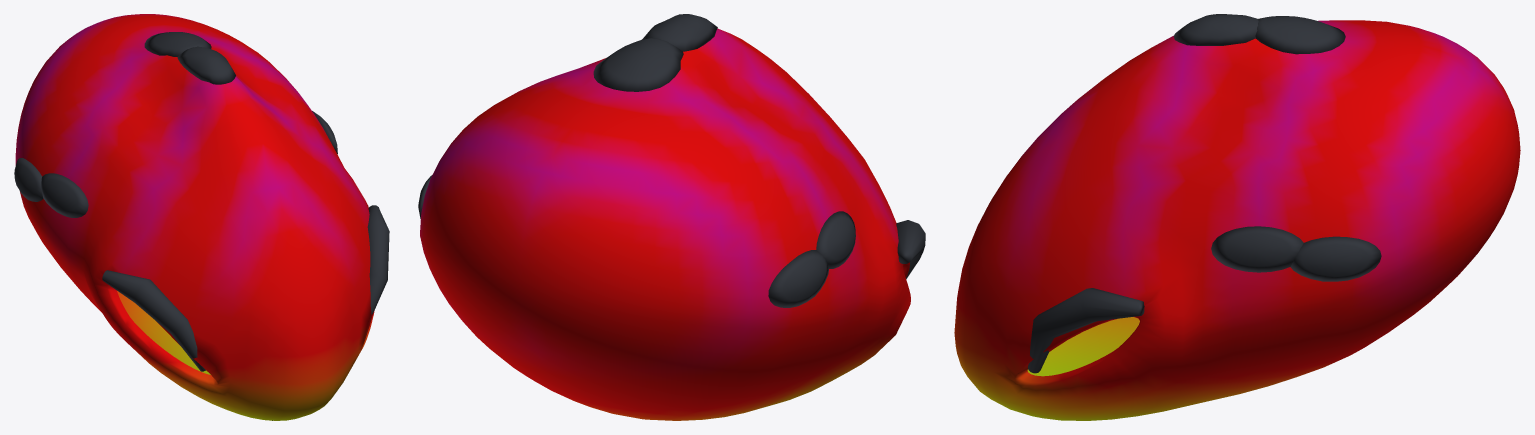
File: GXR_HEAD_04_ABYSSAL.glb
3 renders of one model, left to right at view 1: azimuth 30°, elevation 25°; view 2: azimuth 150°, elevation 25°; view 3: azimuth 270°, elevation 25°, orthographic. The views are drawn at different scales.
Parts seen in each view (by area): view 1: Mesh_HeadSurface_ABYSSAL_Export, Mesh_Supraorbital_ridge.006_Export, Mesh_Supraorbital_ridge.007_Export, Mesh_Organic_cranial_scute.020_Export, Mesh_Organic_cranial_scute.018_Export, Mesh_Organic_cranial_scute.019_Export, Mesh_Organic_cranial_scute.021_Export; view 2: Mesh_HeadSurface_ABYSSAL_Export, Mesh_Organic_cranial_scute.019_Export, Mesh_Organic_cranial_scute.021_Export, Mesh_Organic_cranial_scute.018_Export, Mesh_Organic_cranial_scute.020_Export, Mesh_Supraorbital_ridge.006_Export; view 3: Mesh_HeadSurface_ABYSSAL_Export, Mesh_Supraorbital_ridge.007_Export, Mesh_Organic_cranial_scute.022_Export, Mesh_Organic_cranial_scute.023_Export, Mesh_Organic_cranial_scute.019_Export, Mesh_Organic_cranial_scute.018_Export.
Part boxes in pixels (<box>): Mesh_HeadSurface_ABYSSAL_Export: <box>15,14,374,420</box>; Mesh_Supraorbital_ridge.006_Export: <box>102,270,205,371</box>; Mesh_Supraorbital_ridge.007_Export: <box>367,205,389,314</box>; Mesh_Organic_cranial_scute.020_Export: <box>41,173,88,217</box>; Mesh_Organic_cranial_scute.018_Export: <box>177,46,235,84</box>; Mesh_Organic_cranial_scute.019_Export: <box>144,32,211,56</box>; Mesh_Organic_cranial_scute.021_Export: <box>14,158,43,201</box>; Mesh_HeadSurface_ABYSSAL_Export: <box>420,28,910,420</box>; Mesh_Organic_cranial_scute.019_Export: <box>593,37,683,91</box>; Mesh_Organic_cranial_scute.021_Export: <box>768,250,828,307</box>; Mesh_Organic_cranial_scute.018_Export: <box>642,14,717,51</box>; Mesh_Organic_cranial_scute.020_Export: <box>816,211,855,268</box>; Mesh_Supraorbital_ridge.006_Export: <box>896,220,925,278</box>; Mesh_HeadSurface_ABYSSAL_Export: <box>954,20,1520,420</box>; Mesh_Supraorbital_ridge.007_Export: <box>1028,288,1144,373</box>; Mesh_Organic_cranial_scute.022_Export: <box>1211,226,1303,272</box>; Mesh_Organic_cranial_scute.023_Export: <box>1290,236,1381,281</box>; Mesh_Organic_cranial_scute.019_Export: <box>1255,16,1345,54</box>; Mesh_Organic_cranial_scute.018_Export: <box>1173,14,1258,45</box>.
Size of the model in its own units: 0.4938 by 0.5131 by 0.6725.
